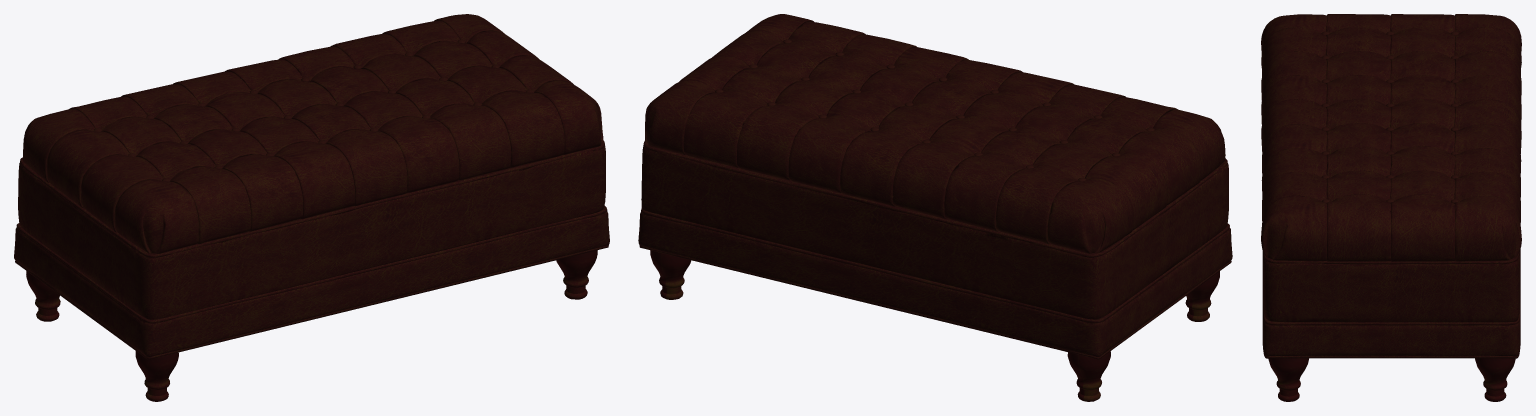
Rendered from XLT1104_v6_LOD2.obj.
3 renders of one model, left to right at view 1: azimuth 30°, elevation 25°; view 2: azimuth 150°, elevation 25°; view 3: azimuth 270°, elevation 25°, orthographic. The views are drawn at different scales.
Parts seen in each view (by area): view 1: not_clear_obj_0_v6, not_clear_obj_1_v6; view 2: not_clear_obj_0_v6, not_clear_obj_1_v6; view 3: not_clear_obj_0_v6, not_clear_obj_1_v6.
Boxes of the visible parts, x1,y1,x2,y2 form: not_clear_obj_0_v6: [14, 14, 609, 359]; not_clear_obj_1_v6: [26, 250, 597, 401]; not_clear_obj_0_v6: [638, 14, 1232, 359]; not_clear_obj_1_v6: [650, 250, 1219, 401]; not_clear_obj_0_v6: [1261, 14, 1521, 358]; not_clear_obj_1_v6: [1268, 358, 1515, 401].
Size of what is drawn, in the model's own units: 109 by 45.72 by 55.88.
2 materials, 2 textured.
